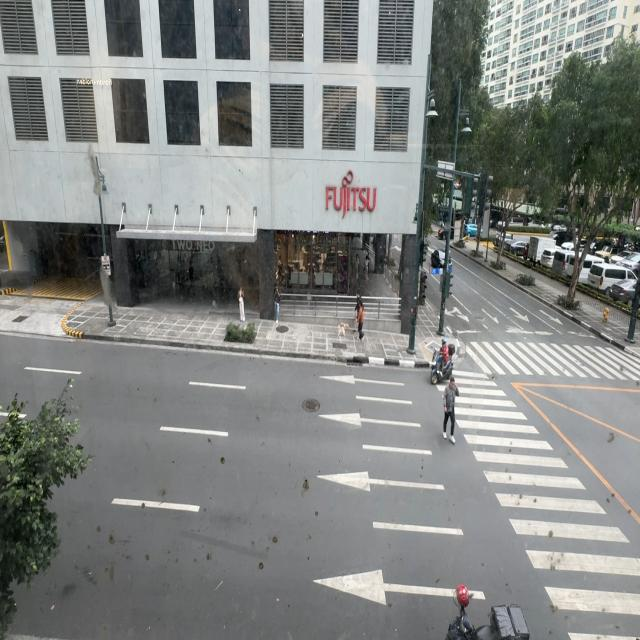jaywalking: (442, 375, 458, 441), (442, 374, 458, 440)
pedestrain: (355, 297, 365, 342), (273, 283, 281, 324), (364, 254, 370, 281)
